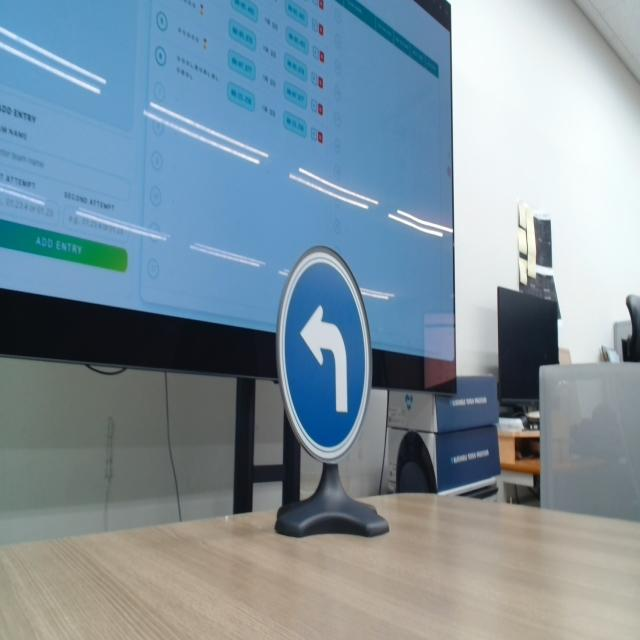left_direction: (274, 242, 368, 459)
